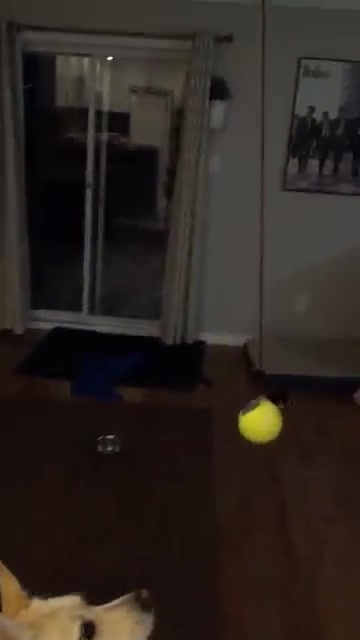tennis_ball: (233, 394, 285, 444)
